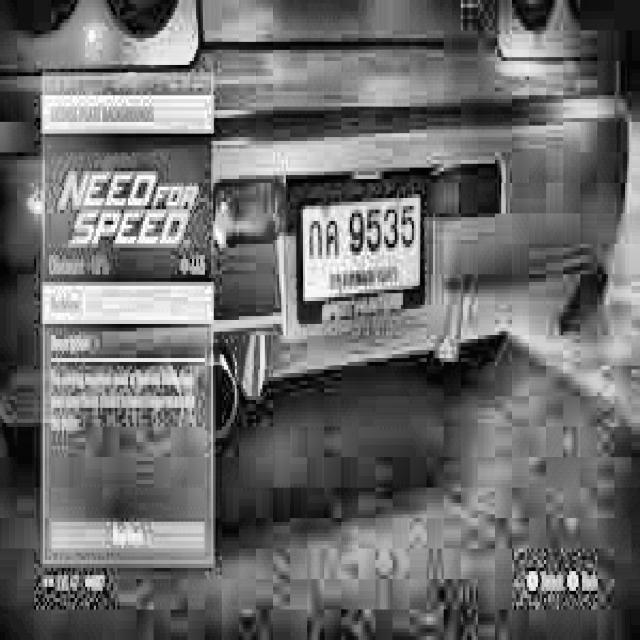license-plate: (295, 167, 435, 328)
